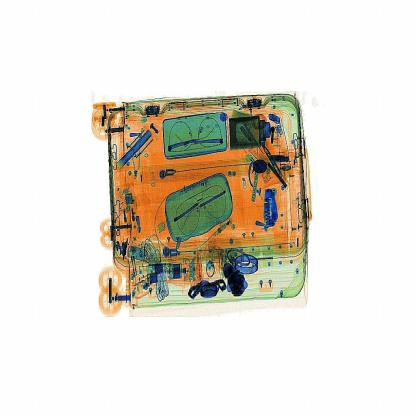scissors: (259, 186, 291, 240)
